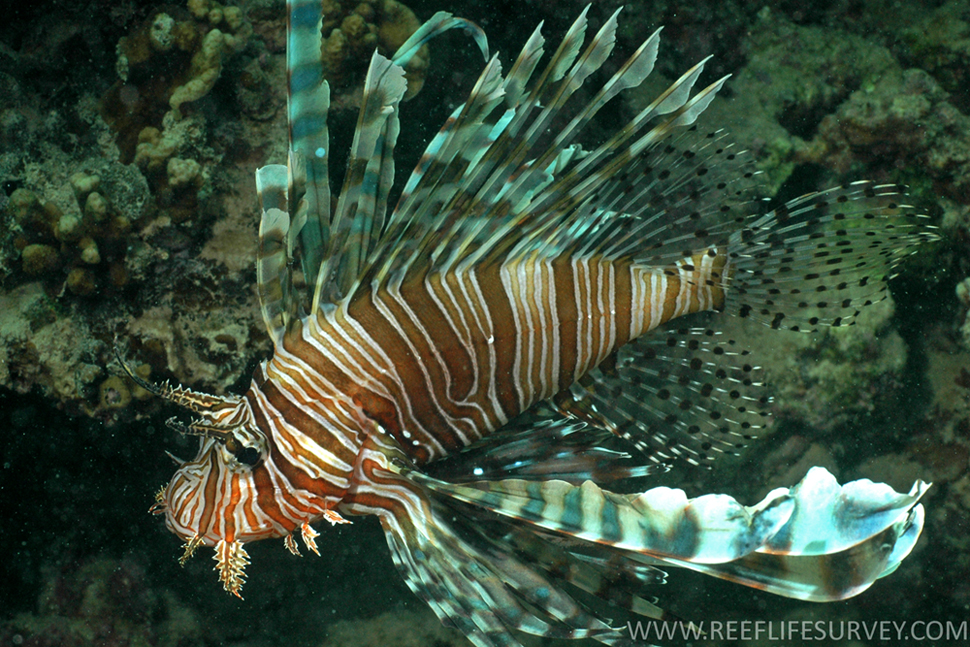Pterois_volitans: (135, 15, 893, 594)
